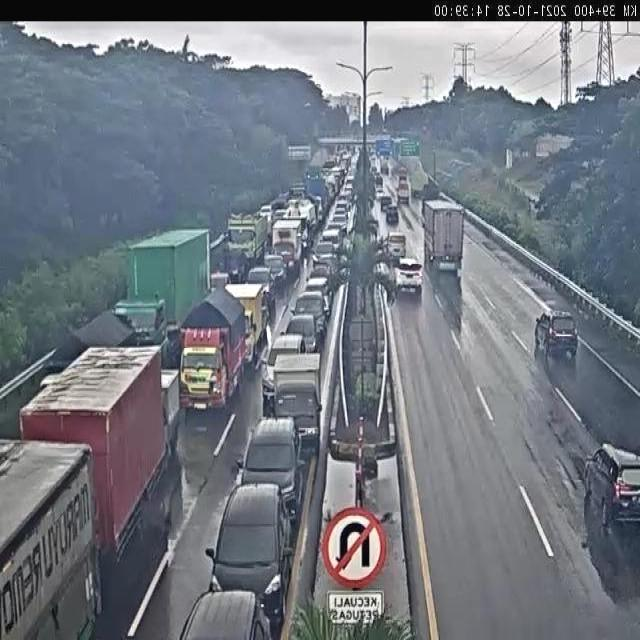Car: (207, 482, 295, 632), (234, 418, 304, 518), (177, 585, 270, 640), (583, 441, 640, 528), (258, 334, 307, 407), (533, 310, 578, 362), (278, 310, 318, 358), (290, 290, 327, 336), (394, 257, 424, 298), (246, 265, 276, 304), (264, 253, 288, 291), (311, 240, 339, 269), (306, 275, 331, 307), (308, 260, 334, 287), (320, 227, 341, 252), (209, 269, 232, 291), (384, 202, 399, 224), (331, 213, 348, 232), (326, 220, 344, 235), (379, 194, 392, 211), (259, 204, 272, 220), (375, 189, 384, 204)
Truck: (15, 340, 164, 567), (0, 437, 101, 640), (177, 287, 253, 413), (128, 228, 212, 336), (39, 306, 135, 393), (270, 350, 324, 456), (422, 198, 464, 274), (112, 298, 166, 353), (224, 207, 266, 266), (271, 218, 305, 277), (161, 368, 182, 454), (303, 174, 329, 222), (291, 198, 317, 240), (408, 168, 429, 200), (396, 180, 410, 200), (380, 160, 390, 176), (398, 166, 408, 179), (375, 175, 384, 186)
Van: (386, 232, 406, 260)
